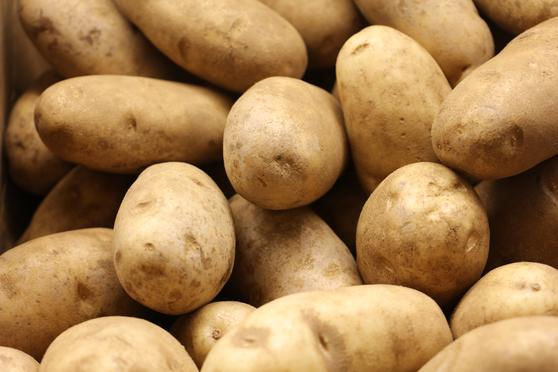potato: (334, 21, 472, 171), (352, 159, 493, 301), (114, 160, 236, 308), (222, 73, 348, 214)
